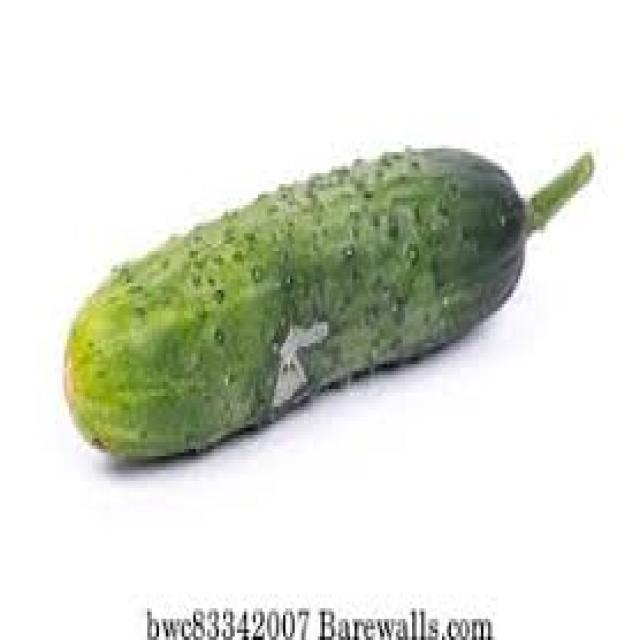organic waste: (60, 141, 589, 467)
